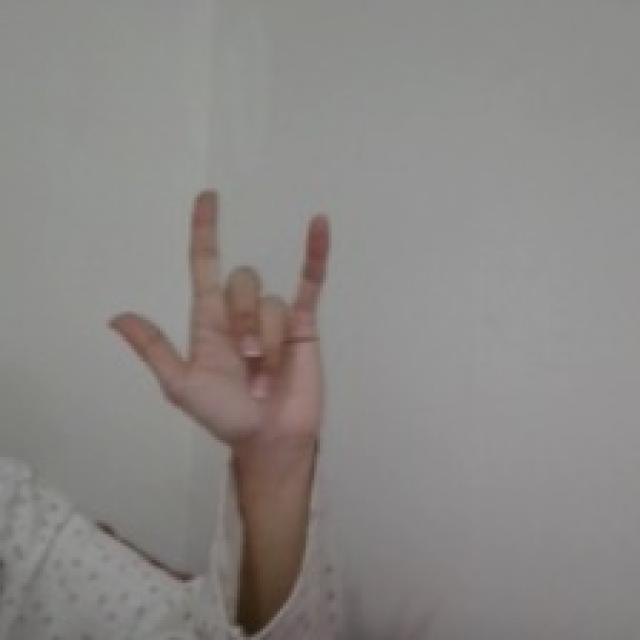love: (102, 181, 338, 449)
